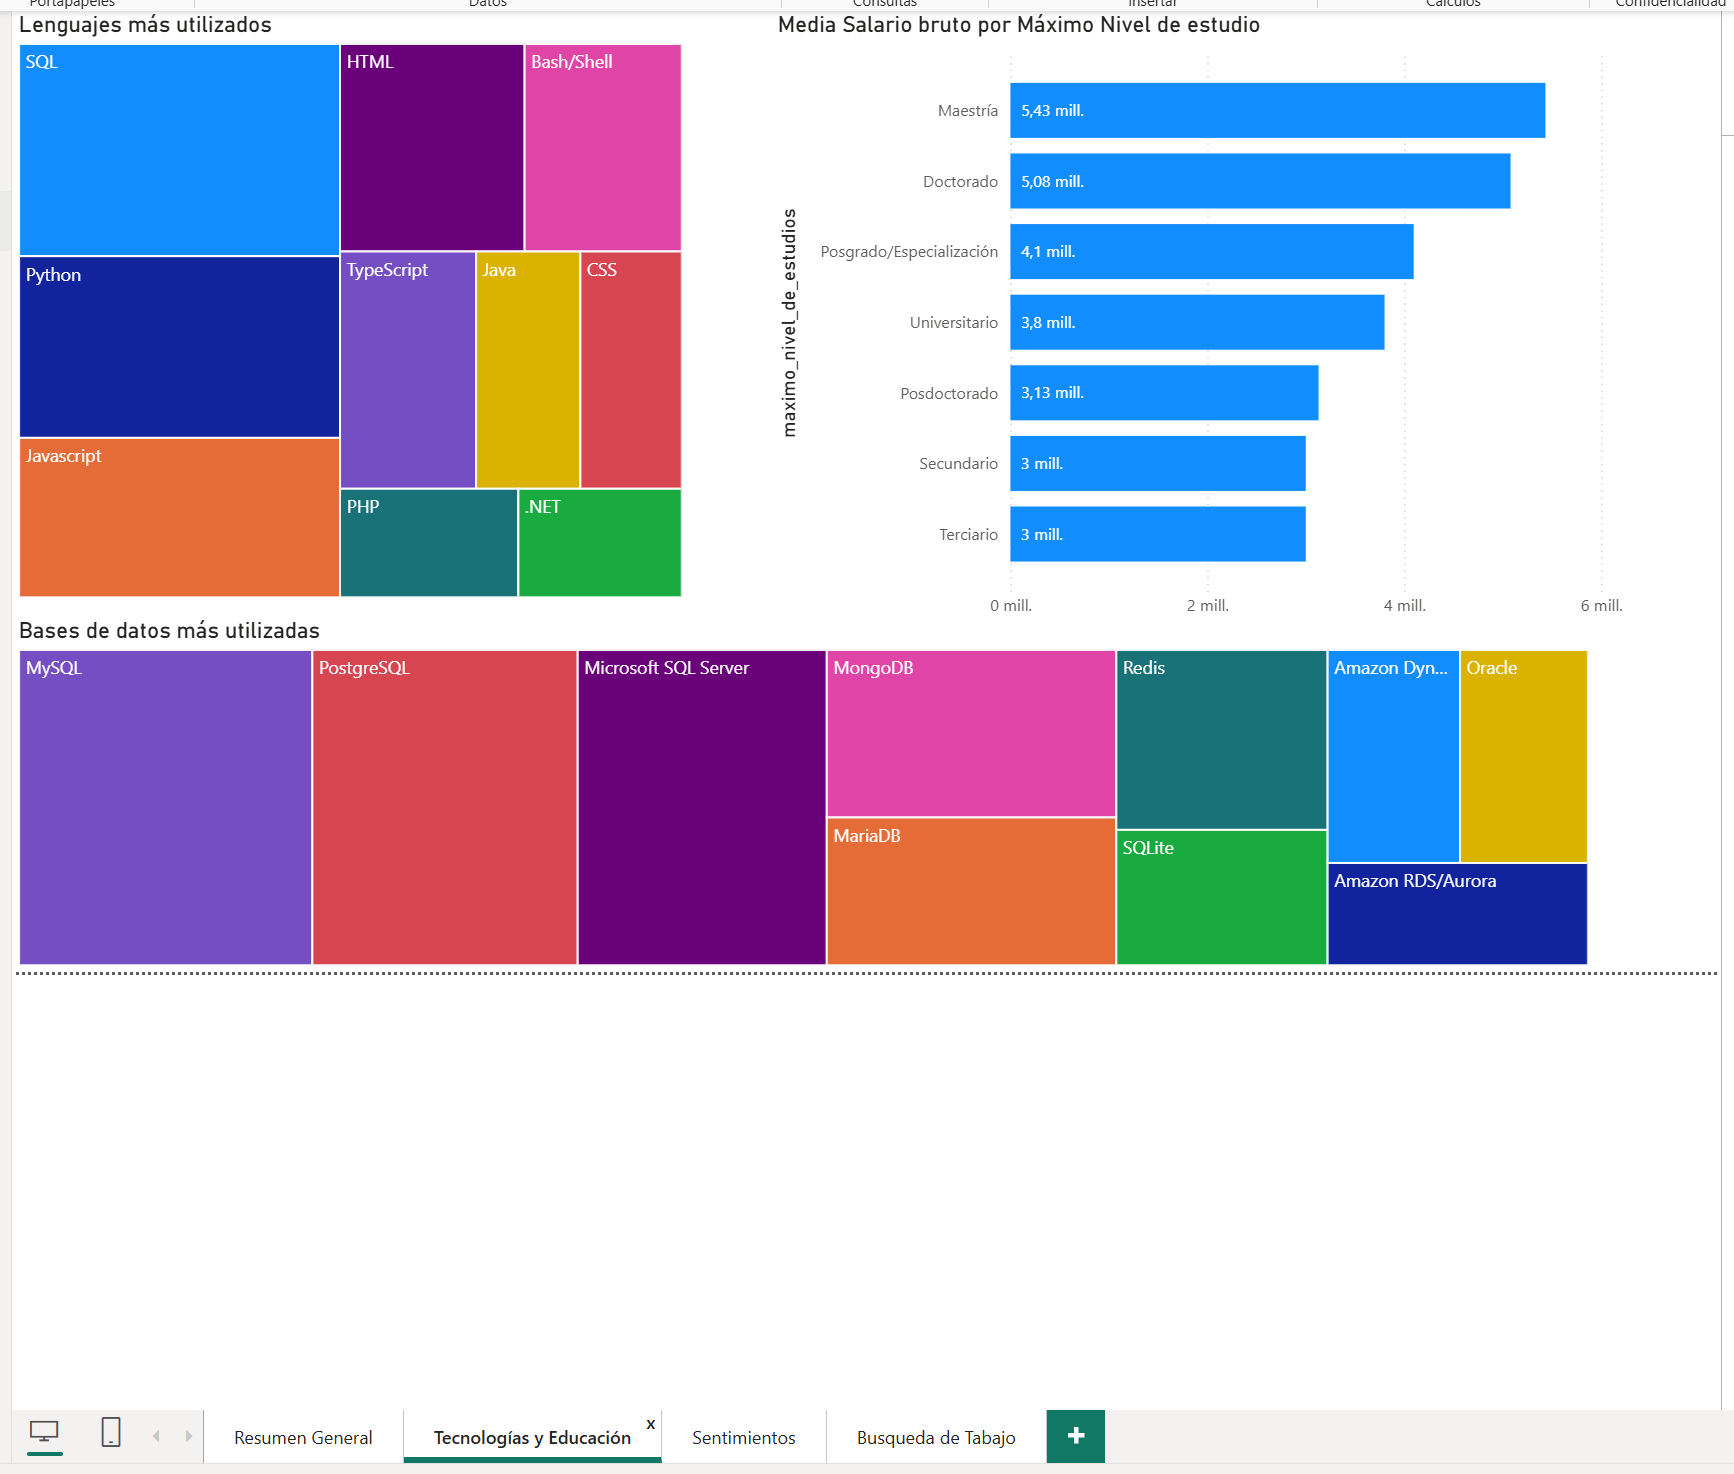

The dashboard page shown, as its layout file describes it:
{"tool":"powerbi","page":{"name":"Tecnologías y Educación","canvas":[1280,720],"ordinal":1},"visuals":[{"type":"barChart","title":"Media Salario bruto por Máximo Nivel de estudio","fields":{"Category":["Sysarmy - sueldos - 2026 01CLEA.maximo_nivel_de_estudios"],"Y":["Sysarmy - sueldos - 2026 01CLEA.Media Salario bruto"]},"box":[568.8,0,654.2,476.2],"z":1},{"type":"treemap","title":"Lenguajes más utilizados","fields":{"Values":["CountNonNull(Sysarmy - sueldos - 2026 01CLEA.Atributo)"],"Group":["Sysarmy - sueldos - 2026 01CLEA.Valor"]},"box":[0,0,506.3,443.8],"z":2},{"type":"treemap","title":"Bases de datos más utilizadas","fields":{"Details":["Sysarmy - sueldos - 2026 01CLEA.Bases de dato - Valor"],"Values":["CountNonNull(Sysarmy - sueldos - 2026 01CLEA.Bases de dato - Atributo)"]},"box":[0,454.4,1185,265.5],"z":3}]}

Visuals, with their boxes on the page's 1280x720 design canvas (x1, y1, x2, y2). These are canvas units, not pixel positions in the 1734x1474 screenshot, which may show the page scaled, cropped or inside an application window:
"Media Salario bruto por Máximo Nivel de estudio" barChart: left=569, top=0, right=1223, bottom=476
"Lenguajes más utilizados" treemap: left=0, top=0, right=506, bottom=444
"Bases de datos más utilizadas" treemap: left=0, top=454, right=1185, bottom=720
